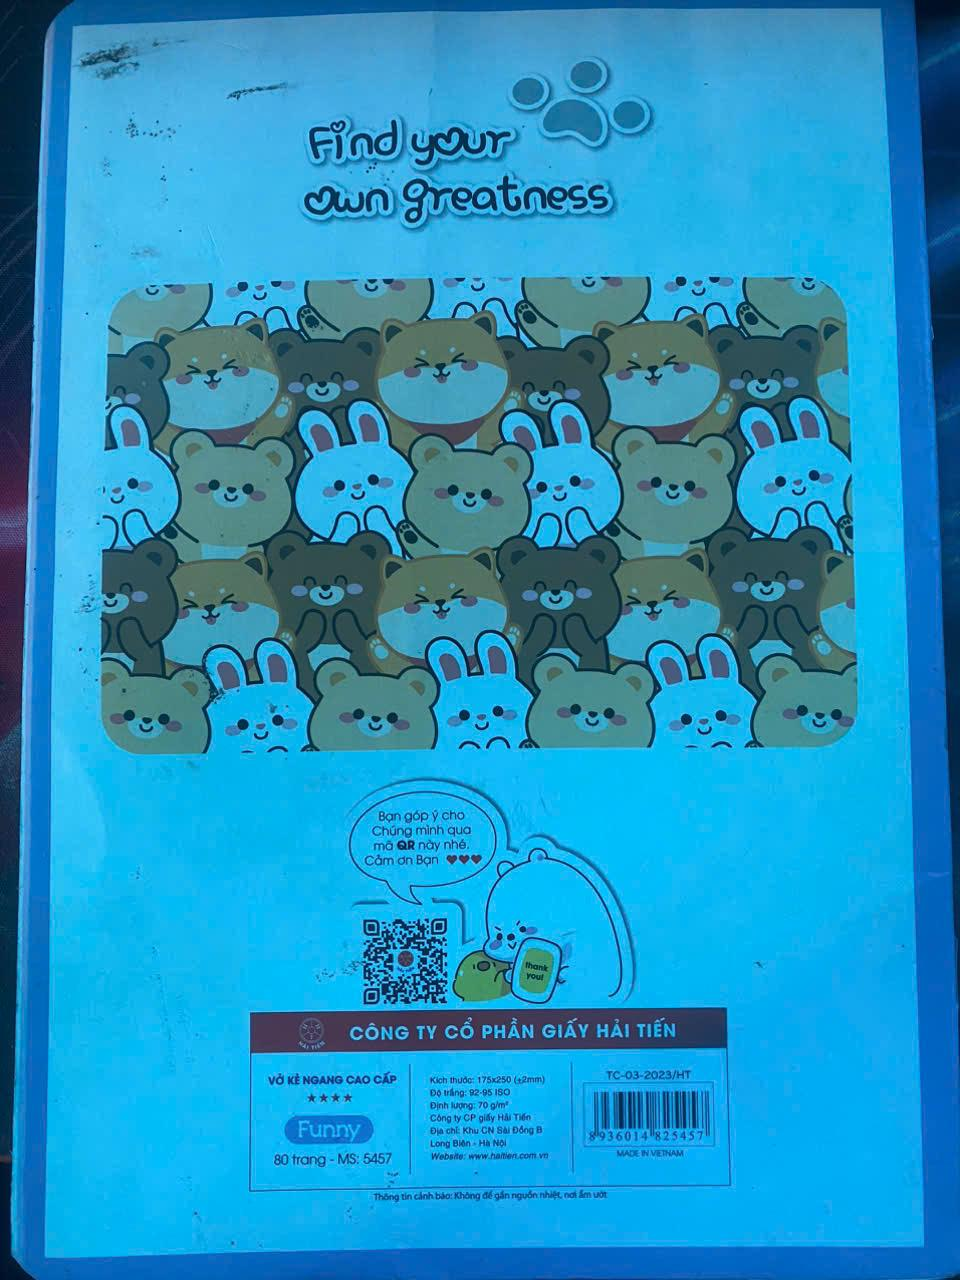quyenvo: (23, 6, 955, 1276)
